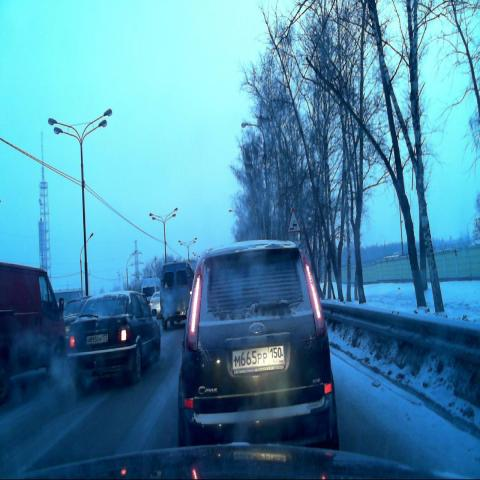1_19: (286, 210, 300, 235)
